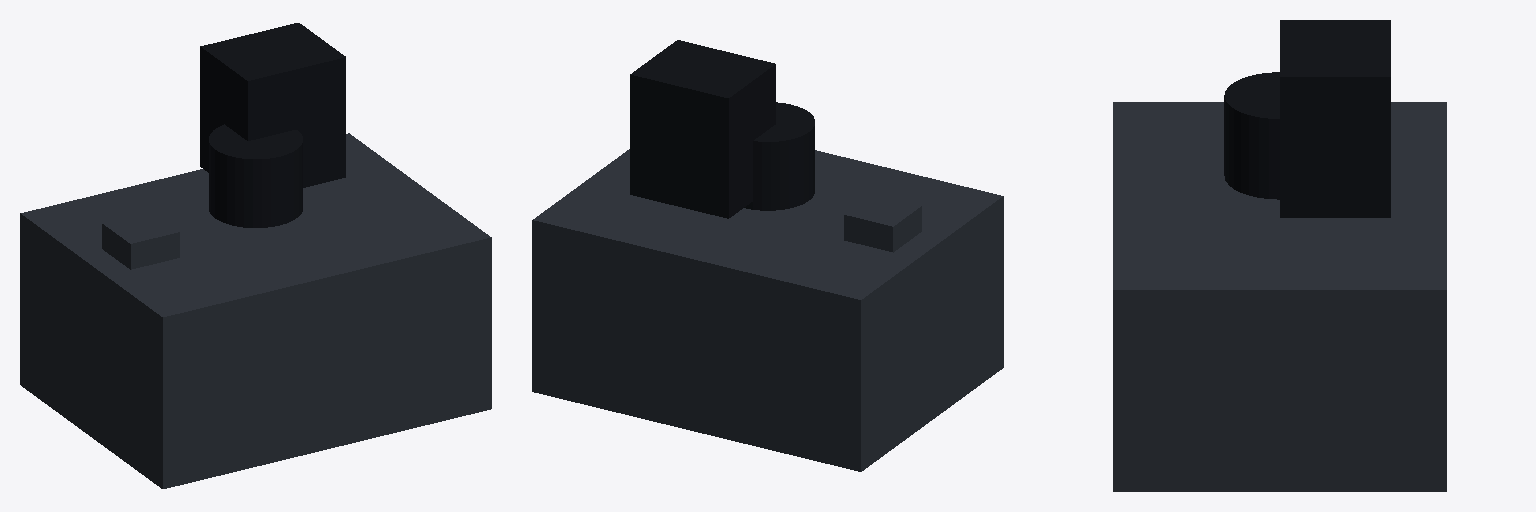
robot.urdf — phase5_gimbal:
<?xml version="1.0"?>
<!--
  Phase 5 sample robot: two-axis gimbal camera head, URDF form.

  Frame: standard URDF / REP-103 body frame (metres, +X forward, +Y left,
  +Z up). The loader converts every pose and axis to the Godot frame.

  Chain:
    base_link
      -> gimbal_yaw_joint    (revolute about body Z, +/-2 rad)
           -> gimbal_yaw_link
                -> gimbal_pitch_joint (revolute about body Y, +/-0.6 rad)
                     -> gimbal_pitch_link (head mesh, meshes/head.obj)
                          -> camera_joint (fixed)
                               -> camera_link
                                    -> camera_optical_joint (fixed, optical RPY)
                                         -> camera_optical_frame
      -> slider_joint (prismatic along body X, 0..0.05 m)
           -> slider_link

  meshes/head.obj is authored in the Godot frame (Y up, -Z forward), as the
  Phase 5 mesh convention requires; tools/prepare_robot_model.py converts
  ROS-frame meshes to that frame.
-->
<robot name="phase5_gimbal">

  <material name="body_grey">
    <color rgba="0.22 0.24 0.27 1.0"/>
  </material>
  <material name="head_dark">
    <color rgba="0.10 0.11 0.13 1.0"/>
  </material>

  <link name="base_link">
    <visual name="base_body">
      <origin xyz="0 0 0.10" rpy="0 0 0"/>
      <geometry>
        <box size="0.40 0.30 0.20"/>
      </geometry>
      <material name="body_grey"/>
    </visual>
  </link>

  <link name="gimbal_yaw_link">
    <visual name="yaw_bearing">
      <origin xyz="0 0 0.04" rpy="0 0 0"/>
      <geometry>
        <cylinder radius="0.05" length="0.08"/>
      </geometry>
      <material name="head_dark"/>
    </visual>
  </link>

  <link name="gimbal_pitch_link">
    <visual name="head">
      <origin xyz="0.05 0 0" rpy="0 0 0"/>
      <geometry>
        <mesh filename="meshes/head.obj" scale="1 1 1"/>
      </geometry>
      <material name="head_dark"/>
    </visual>
  </link>

  <link name="camera_link"/>

  <link name="camera_optical_frame"/>

  <link name="slider_link">
    <visual name="slider_body">
      <origin xyz="0 0 0.015" rpy="0 0 0"/>
      <geometry>
        <box size="0.06 0.06 0.03"/>
      </geometry>
      <material name="body_grey"/>
    </visual>
  </link>

  <joint name="gimbal_yaw_joint" type="revolute">
    <parent link="base_link"/>
    <child link="gimbal_yaw_link"/>
    <origin xyz="0 0 0.22" rpy="0 0 0"/>
    <axis xyz="0 0 1"/>
    <limit lower="-2.0" upper="2.0" effort="5.0" velocity="3.0"/>
  </joint>

  <joint name="gimbal_pitch_joint" type="revolute">
    <parent link="gimbal_yaw_link"/>
    <child link="gimbal_pitch_link"/>
    <origin xyz="0 0 0.08" rpy="0 0 0"/>
    <axis xyz="0 1 0"/>
    <limit lower="-0.6" upper="0.6" effort="5.0" velocity="3.0"/>
  </joint>

  <joint name="camera_joint" type="fixed">
    <parent link="gimbal_pitch_link"/>
    <child link="camera_link"/>
    <origin xyz="0.05 0 0" rpy="0 0 0"/>
  </joint>

  <joint name="camera_optical_joint" type="fixed">
    <parent link="camera_link"/>
    <child link="camera_optical_frame"/>
    <origin xyz="0 0 0" rpy="-1.5707963267948966 0 -1.5707963267948966"/>
  </joint>

  <joint name="slider_joint" type="prismatic">
    <parent link="base_link"/>
    <child link="slider_link"/>
    <origin xyz="-0.14 0 0.20" rpy="0 0 0"/>
    <axis xyz="1 0 0"/>
    <limit lower="0.0" upper="0.05" effort="5.0" velocity="0.2"/>
  </joint>

</robot>

--- Render facts (derived) ---
Views: 3 orthographic renders of the robot side by side, from view 1: azimuth 30°, elevation 25°; view 2: azimuth 150°, elevation 25°; view 3: azimuth 270°, elevation 25°.
Model phase5_gimbal with 6 links and 5 joints (2 revolute, 1 prismatic, 2 fixed), rooted at base_link, posed every joint at zero.
Links seen in each view (by area): view 1: base_link, gimbal_pitch_link, gimbal_yaw_link, slider_link; view 2: base_link, gimbal_pitch_link, gimbal_yaw_link, slider_link; view 3: base_link, gimbal_pitch_link, gimbal_yaw_link.
Boxes of the visible links, x1,y1,x2,y2 form: base_link: (20, 133, 491, 488); gimbal_pitch_link: (200, 23, 345, 187); gimbal_yaw_link: (209, 124, 302, 227); slider_link: (102, 211, 179, 269); base_link: (532, 149, 1003, 471); gimbal_pitch_link: (630, 40, 775, 218); gimbal_yaw_link: (744, 102, 814, 210); slider_link: (844, 194, 921, 252); base_link: (1113, 102, 1446, 491); gimbal_pitch_link: (1280, 20, 1390, 217); gimbal_yaw_link: (1224, 72, 1279, 199).
Size in the robot's own frame: 0.4 by 0.3 by 0.37 metres.
Meshes: 1 distinct files referenced, 1 mesh visuals loaded (1 OBJ).
